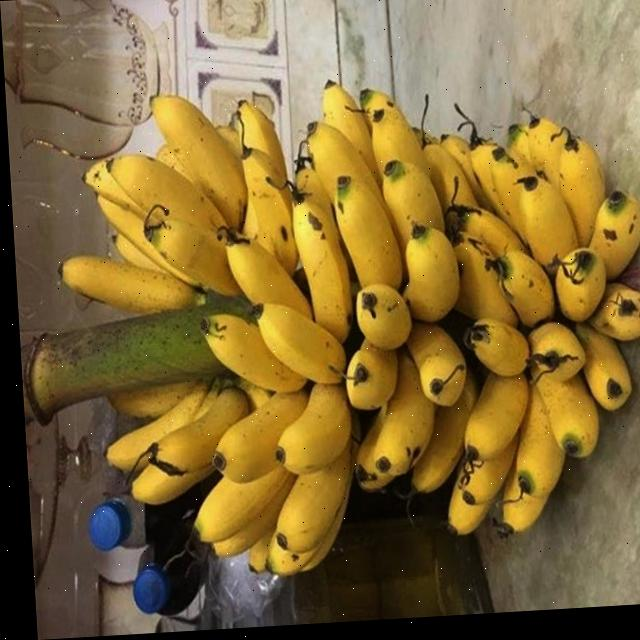banana: (32, 87, 640, 588), (71, 27, 358, 577), (405, 105, 640, 531), (309, 61, 504, 524)
